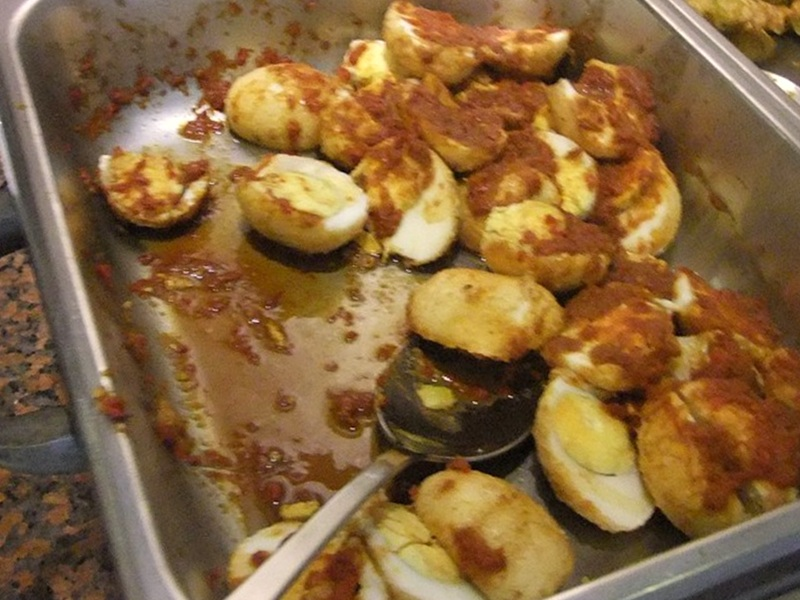Telur Balado: (85, 6, 685, 576)
